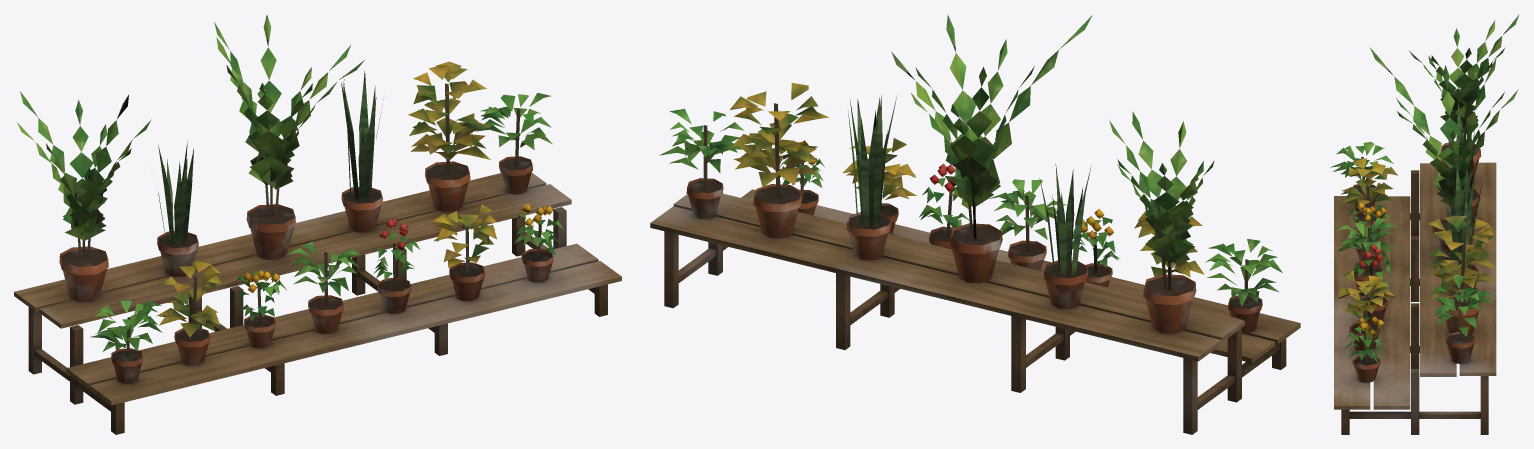
Rendered from plant_nursery.glb.
3 renders of one model, left to right at view 1: azimuth 30°, elevation 25°; view 2: azimuth 150°, elevation 25°; view 3: azimuth 270°, elevation 25°, orthographic. The views are drawn at different scales.
Parts seen in each view (by area): view 1: body; view 2: body; view 3: body.
Part boxes in pixels (x1,y1,x2,y2): body: (14, 14, 621, 434); body: (650, 14, 1300, 434); body: (1330, 14, 1519, 434).
Size of the model in its own units: 3.03 by 1.69 by 1.15.
Materials: 1 (1 with a texture image).
